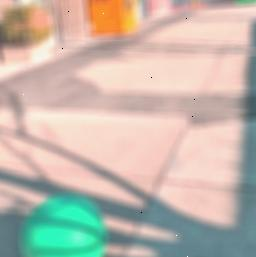algae: (17, 191, 106, 257)
